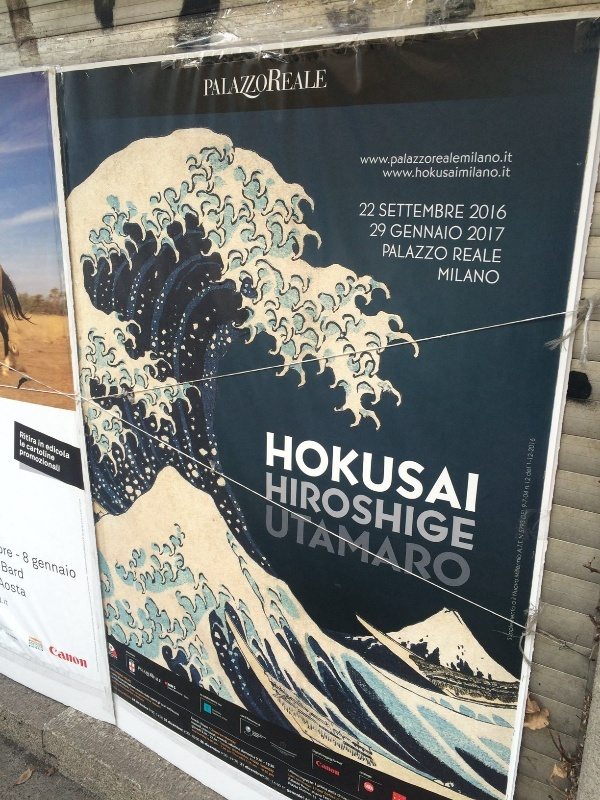text: (513, 436, 528, 643), (529, 436, 536, 643), (273, 504, 288, 594), (289, 504, 304, 594), (305, 504, 320, 594), (321, 504, 336, 594), (337, 504, 352, 594), (353, 504, 368, 594), (369, 504, 384, 594), (385, 504, 400, 594), (401, 504, 416, 594), (417, 504, 432, 594), (433, 504, 448, 594), (449, 504, 464, 594), (273, 432, 288, 515), (289, 432, 304, 515), (305, 432, 320, 515), (321, 432, 336, 515), (337, 432, 352, 515), (353, 432, 368, 515), (369, 432, 384, 515), (385, 432, 400, 515), (401, 432, 416, 515), (417, 432, 432, 515), (433, 432, 448, 515), (449, 432, 464, 515), (506, 436, 512, 643), (273, 472, 288, 553), (289, 472, 304, 553), (305, 472, 320, 553), (321, 472, 336, 553), (337, 472, 352, 553), (353, 472, 368, 553), (369, 472, 384, 553), (385, 472, 400, 553), (401, 472, 416, 553), (417, 472, 432, 553), (433, 472, 448, 553), (449, 472, 464, 553), (465, 432, 479, 515), (465, 472, 476, 553), (193, 724, 208, 774), (209, 724, 224, 774), (225, 724, 240, 774), (241, 724, 256, 774), (257, 724, 272, 774), (193, 728, 208, 778), (209, 728, 224, 778), (225, 728, 240, 778), (241, 728, 256, 778), (257, 728, 272, 778), (193, 721, 208, 770), (209, 721, 224, 770), (225, 721, 240, 770), (241, 721, 256, 770), (257, 721, 272, 770), (113, 671, 128, 718), (129, 671, 144, 718), (145, 671, 160, 718), (161, 671, 176, 718), (145, 697, 160, 743), (161, 697, 176, 743), (177, 697, 192, 743), (465, 504, 472, 594), (209, 62, 224, 101), (225, 62, 240, 101), (241, 62, 256, 101), (257, 62, 272, 101), (273, 62, 288, 101), (289, 62, 304, 101), (305, 62, 320, 101), (241, 762, 256, 800), (257, 762, 272, 800), (273, 762, 288, 800), (145, 675, 161, 710), (132, 697, 144, 743), (289, 762, 303, 800), (113, 675, 128, 710), (129, 675, 144, 710), (266, 472, 272, 553), (267, 504, 272, 594), (193, 716, 208, 746), (209, 716, 224, 746), (289, 769, 304, 797), (305, 769, 320, 797), (321, 769, 336, 797), (267, 432, 272, 515), (209, 738, 224, 765), (289, 773, 304, 800), (305, 773, 320, 800), (321, 773, 336, 800), (129, 678, 145, 703), (225, 738, 239, 765), (113, 678, 128, 703), (33, 449, 48, 473), (65, 646, 80, 670), (50, 646, 64, 670), (33, 557, 48, 579), (49, 557, 64, 579), (225, 716, 236, 746), (289, 777, 304, 799), (305, 777, 320, 799), (193, 697, 200, 743), (20, 449, 32, 473), (1, 561, 16, 580), (145, 666, 160, 685), (273, 741, 288, 760), (289, 781, 304, 800), (401, 223, 416, 241), (417, 223, 432, 241), (433, 223, 448, 241), (33, 444, 48, 462), (49, 449, 60, 473), (385, 202, 400, 219), (401, 202, 416, 219), (417, 202, 432, 219), (433, 202, 448, 219), (449, 202, 464, 219), (385, 244, 400, 261), (401, 244, 416, 261), (417, 244, 432, 261), (433, 244, 448, 261), (449, 267, 464, 284), (465, 267, 480, 284), (481, 267, 496, 284), (49, 443, 64, 460), (113, 667, 128, 684), (321, 760, 336, 777), (449, 223, 463, 241), (65, 557, 76, 579), (465, 247, 480, 263), (481, 247, 496, 263), (321, 750, 336, 766), (321, 62, 327, 101), (305, 781, 317, 800), (497, 151, 513, 165), (369, 151, 384, 165), (385, 151, 400, 165), (401, 151, 416, 165), (417, 151, 432, 165), (433, 151, 448, 165), (449, 151, 464, 165), (465, 151, 480, 165), (481, 151, 496, 165), (201, 738, 208, 765), (371, 223, 384, 237), (209, 694, 222, 708), (385, 166, 400, 178), (401, 166, 416, 178), (417, 166, 432, 178), (433, 166, 448, 178), (449, 166, 464, 178), (465, 166, 480, 178), (481, 166, 496, 178), (177, 686, 189, 701), (241, 715, 256, 727), (5, 582, 16, 598), (497, 166, 511, 178), (81, 646, 88, 670), (212, 709, 224, 723), (21, 431, 32, 446), (454, 247, 464, 263), (17, 582, 27, 598), (204, 62, 208, 101), (289, 741, 297, 760), (392, 223, 400, 241), (440, 267, 448, 284), (17, 561, 24, 580), (3, 548, 16, 558), (360, 202, 368, 217), (20, 439, 32, 449), (168, 686, 176, 701), (3, 598, 16, 607), (138, 666, 144, 685), (360, 151, 368, 165), (200, 694, 208, 708), (313, 750, 320, 766), (49, 444, 55, 462), (23, 551, 32, 563), (369, 202, 376, 217), (273, 728, 275, 778), (273, 721, 275, 770), (177, 671, 179, 718), (39, 439, 48, 449), (27, 444, 32, 462), (257, 730, 267, 739), (65, 443, 70, 460), (497, 247, 502, 263), (33, 642, 43, 650), (33, 645, 44, 652), (380, 202, 384, 219), (316, 760, 320, 777), (169, 682, 176, 691), (33, 431, 37, 446), (225, 709, 229, 723), (497, 267, 500, 284), (129, 667, 132, 684), (273, 724, 274, 774), (191, 721, 192, 770), (257, 715, 261, 727), (337, 750, 340, 766), (111, 671, 112, 718), (385, 223, 388, 237), (270, 741, 272, 760), (252, 730, 256, 739), (111, 675, 112, 710), (46, 443, 48, 460), (110, 667, 112, 684), (337, 760, 339, 777), (191, 716, 192, 746), (382, 166, 384, 178), (29, 642, 32, 650), (321, 777, 322, 799), (161, 666, 162, 685), (383, 244, 384, 261), (30, 645, 32, 652), (17, 554, 20, 557)
